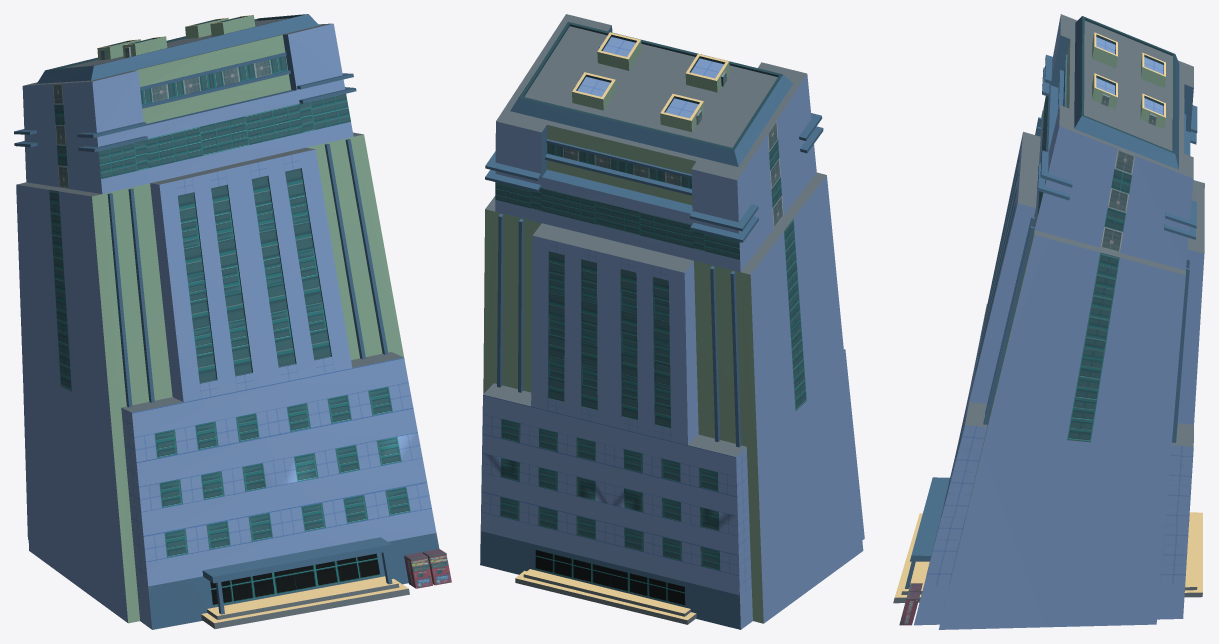
The model's file is Buil_00.FBX.
The picture shows the model from 3 angles, left to right: view 1: azimuth 30°, elevation 25°; view 2: azimuth 150°, elevation 25°; view 3: azimuth 270°, elevation 25°; orthographic projection. The views are drawn at different scales.
Visible parts, largest first — view 1: Box08; view 2: Box08; view 3: Box08.
Boxes of the visible parts, left/top/right/bottom form: Box08: left=14, top=14, right=451, bottom=629; Box08: left=480, top=14, right=864, bottom=629; Box08: left=893, top=14, right=1204, bottom=629.
Bounding box in the file's own units: 979 × 1636 × 938.
